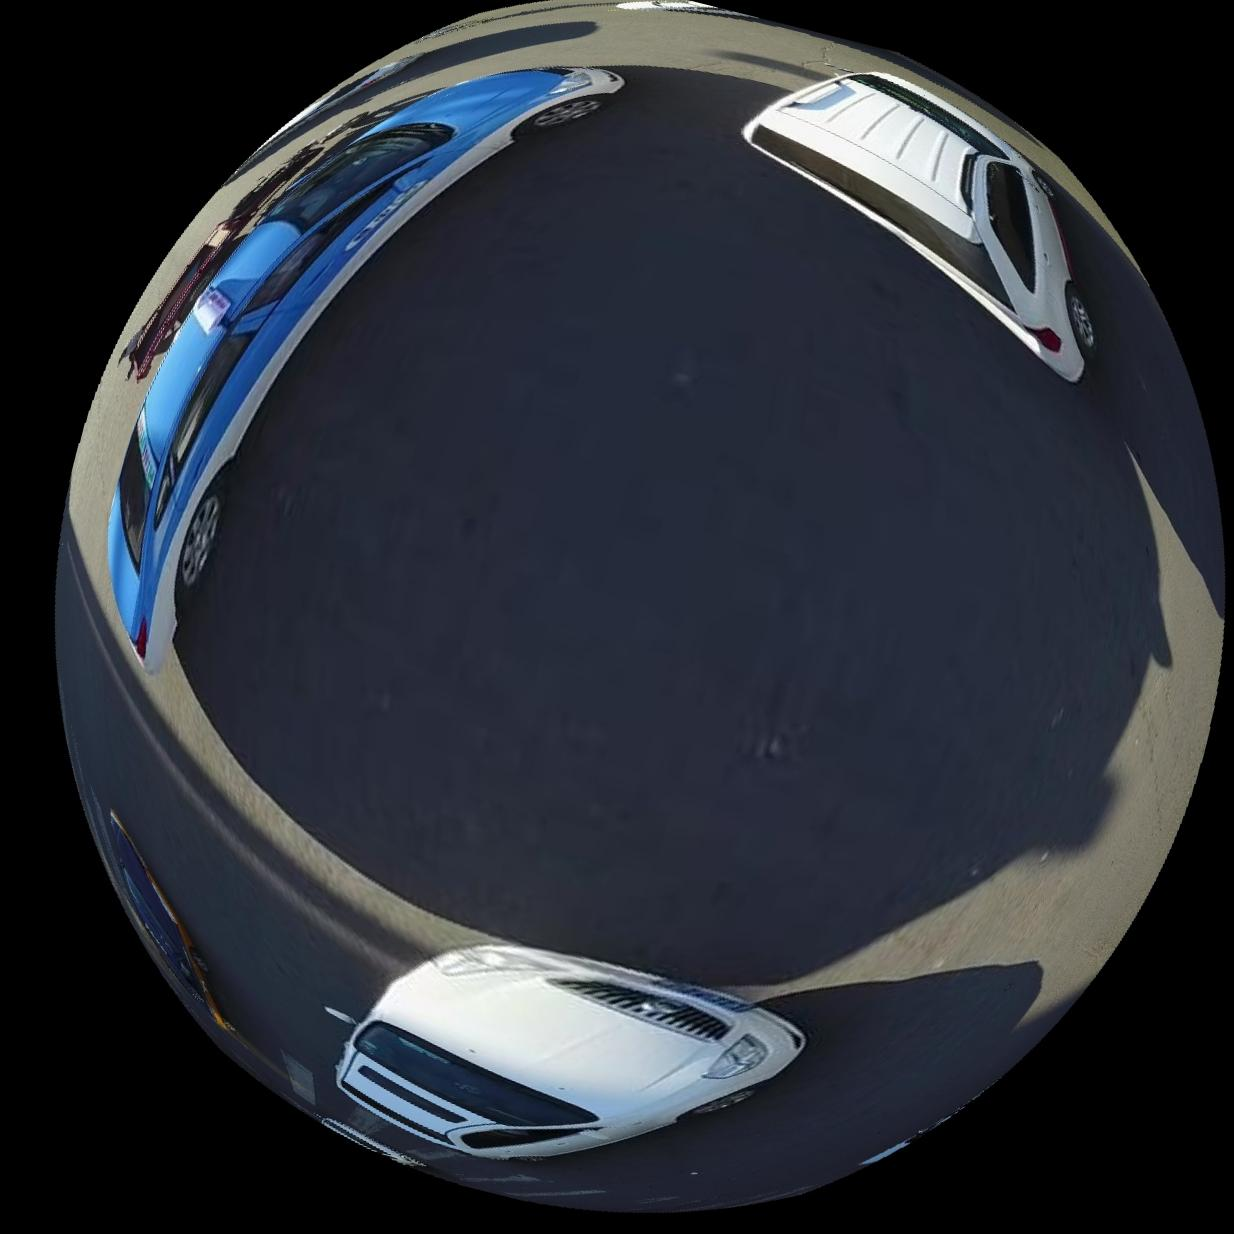cars: (106, 63, 624, 671), (745, 69, 1097, 380), (336, 945, 806, 1159), (106, 810, 233, 1032)
